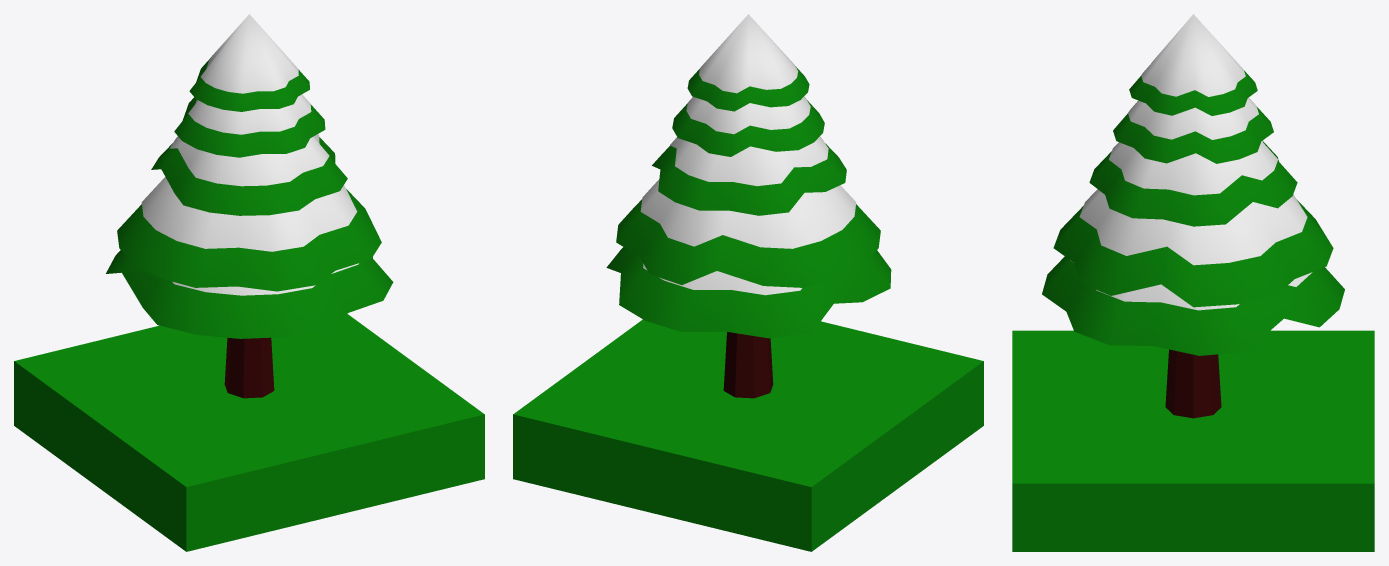
File: ki(yuki)5.fbx
3 renders of one model, left to right at view 1: azimuth 30°, elevation 25°; view 2: azimuth 150°, elevation 25°; view 3: azimuth 270°, elevation 25°, orthographic. The views are drawn at different scales.
Parts seen in each view (by area): view 1: pasted__pasted__pasted__pCube1, pCylinder3, pCylinder7, pCylinder4, pCylinder6, pCylinder5, pasted__pasted__pasted__pCylinder1; view 2: pasted__pasted__pasted__pCube1, pCylinder3, pCylinder7, pCylinder4, pCylinder6, pCylinder5, pasted__pasted__pasted__pCylinder1; view 3: pasted__pasted__pasted__pCube1, pCylinder3, pCylinder7, pCylinder4, pCylinder6, pCylinder5, pasted__pasted__pasted__pCylinder1.
Part boxes in pixels (box(x1,y1,x2,y2)): pasted__pasted__pasted__pCube1: box(14, 314, 484, 551); pCylinder3: box(117, 177, 381, 291); pCylinder7: box(106, 250, 393, 338); pCylinder4: box(151, 134, 347, 215); pCylinder6: box(189, 14, 309, 111); pCylinder5: box(174, 94, 325, 157); pasted__pasted__pasted__pCylinder1: box(224, 337, 274, 398); pasted__pasted__pasted__pCube1: box(513, 319, 983, 551); pCylinder3: box(616, 179, 880, 287); pCylinder7: box(606, 247, 891, 338); pCylinder4: box(652, 136, 846, 215); pCylinder6: box(687, 14, 809, 111); pCylinder5: box(672, 96, 824, 156); pasted__pasted__pasted__pCylinder1: box(723, 332, 773, 398); pasted__pasted__pasted__pCube1: box(1012, 330, 1374, 551); pCylinder3: box(1053, 189, 1333, 307); pCylinder7: box(1042, 256, 1344, 355); pCylinder4: box(1089, 140, 1297, 226); pCylinder6: box(1129, 14, 1257, 115); pCylinder5: box(1113, 97, 1273, 163); pasted__pasted__pasted__pCylinder1: box(1165, 349, 1221, 418).
Size of the model in its own units: 1.91 by 2.68 by 1.91.
